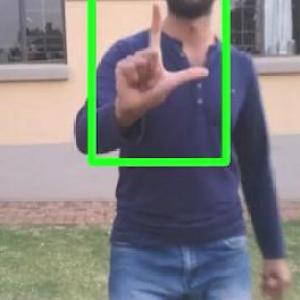land_hand: (103, 0, 216, 131)
